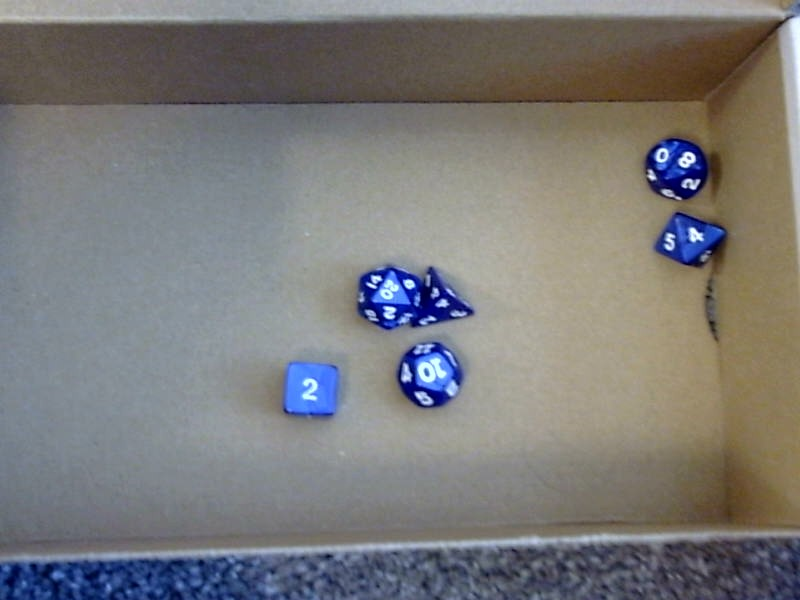d10 8: (634, 129, 710, 201)
d12 10: (390, 341, 467, 410)
d20 20: (350, 257, 419, 330)
d4 4: (420, 257, 476, 328)
d6 2: (279, 352, 348, 423)
d8 4: (650, 213, 731, 269)
